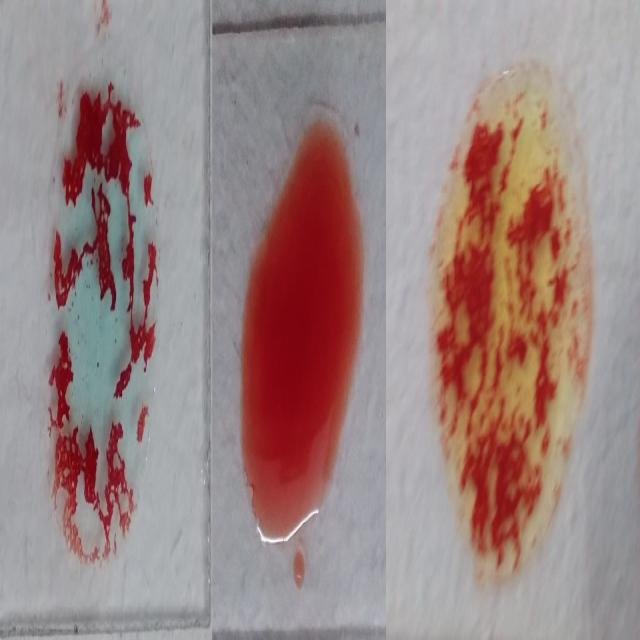A: (42, 75, 165, 582)
B: (433, 66, 593, 584)
